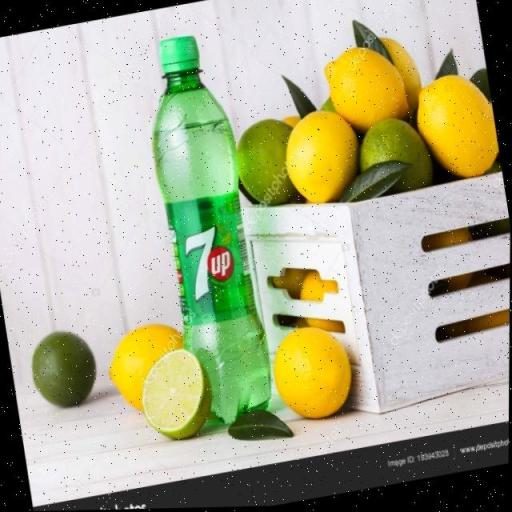plastic: (152, 37, 273, 429)
